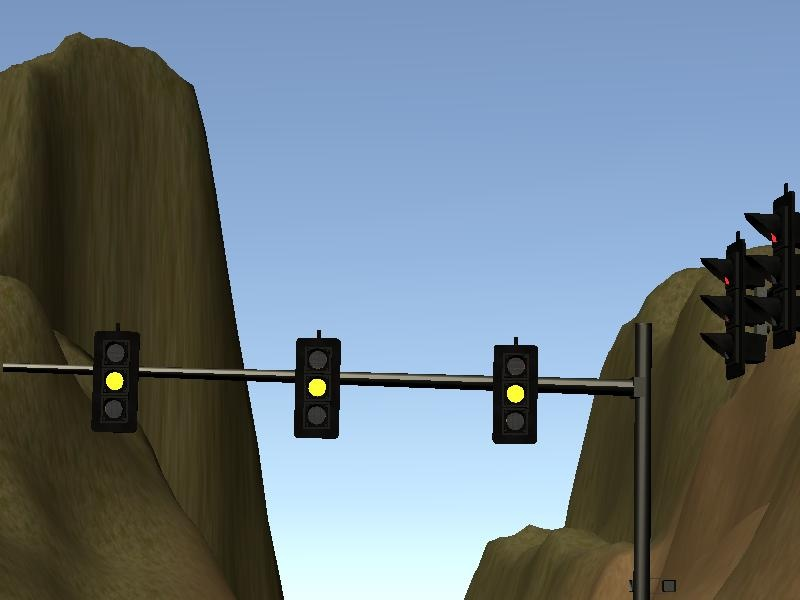YELLOW: (91, 329, 140, 431), (292, 336, 341, 438), (490, 345, 539, 447)
